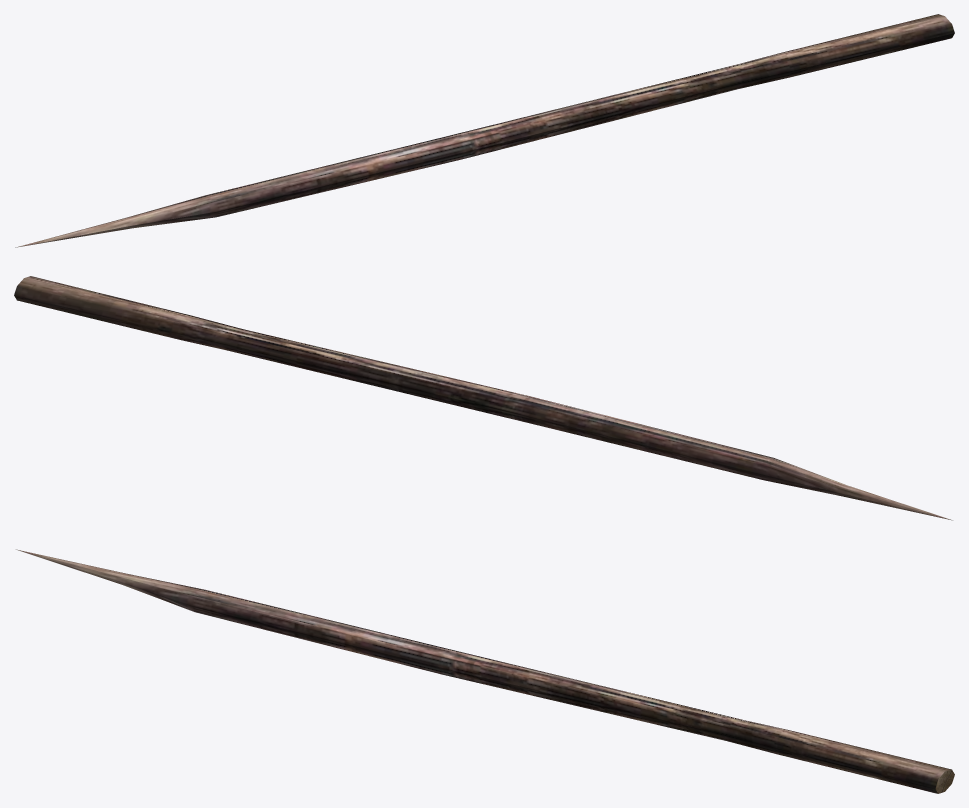
Rendered from ITMW_2H_SPEAR_03.glb.
3 renders of one model, top to bottom at view 1: azimuth 30°, elevation 25°; view 2: azimuth 150°, elevation 25°; view 3: azimuth 330°, elevation 25°, orthographic.
Visible parts, largest first — view 1: ITMW_2H_SPEAR_03; view 2: ITMW_2H_SPEAR_03; view 3: ITMW_2H_SPEAR_03.
Boxes of the visible parts, x1,y1,x2,y2 form: ITMW_2H_SPEAR_03: (15, 14, 954, 247); ITMW_2H_SPEAR_03: (14, 276, 952, 520); ITMW_2H_SPEAR_03: (16, 549, 954, 793).
Bounding box in the file's own units: 1.62 × 0.0405 × 0.0583.
1 material, 1 textured.
